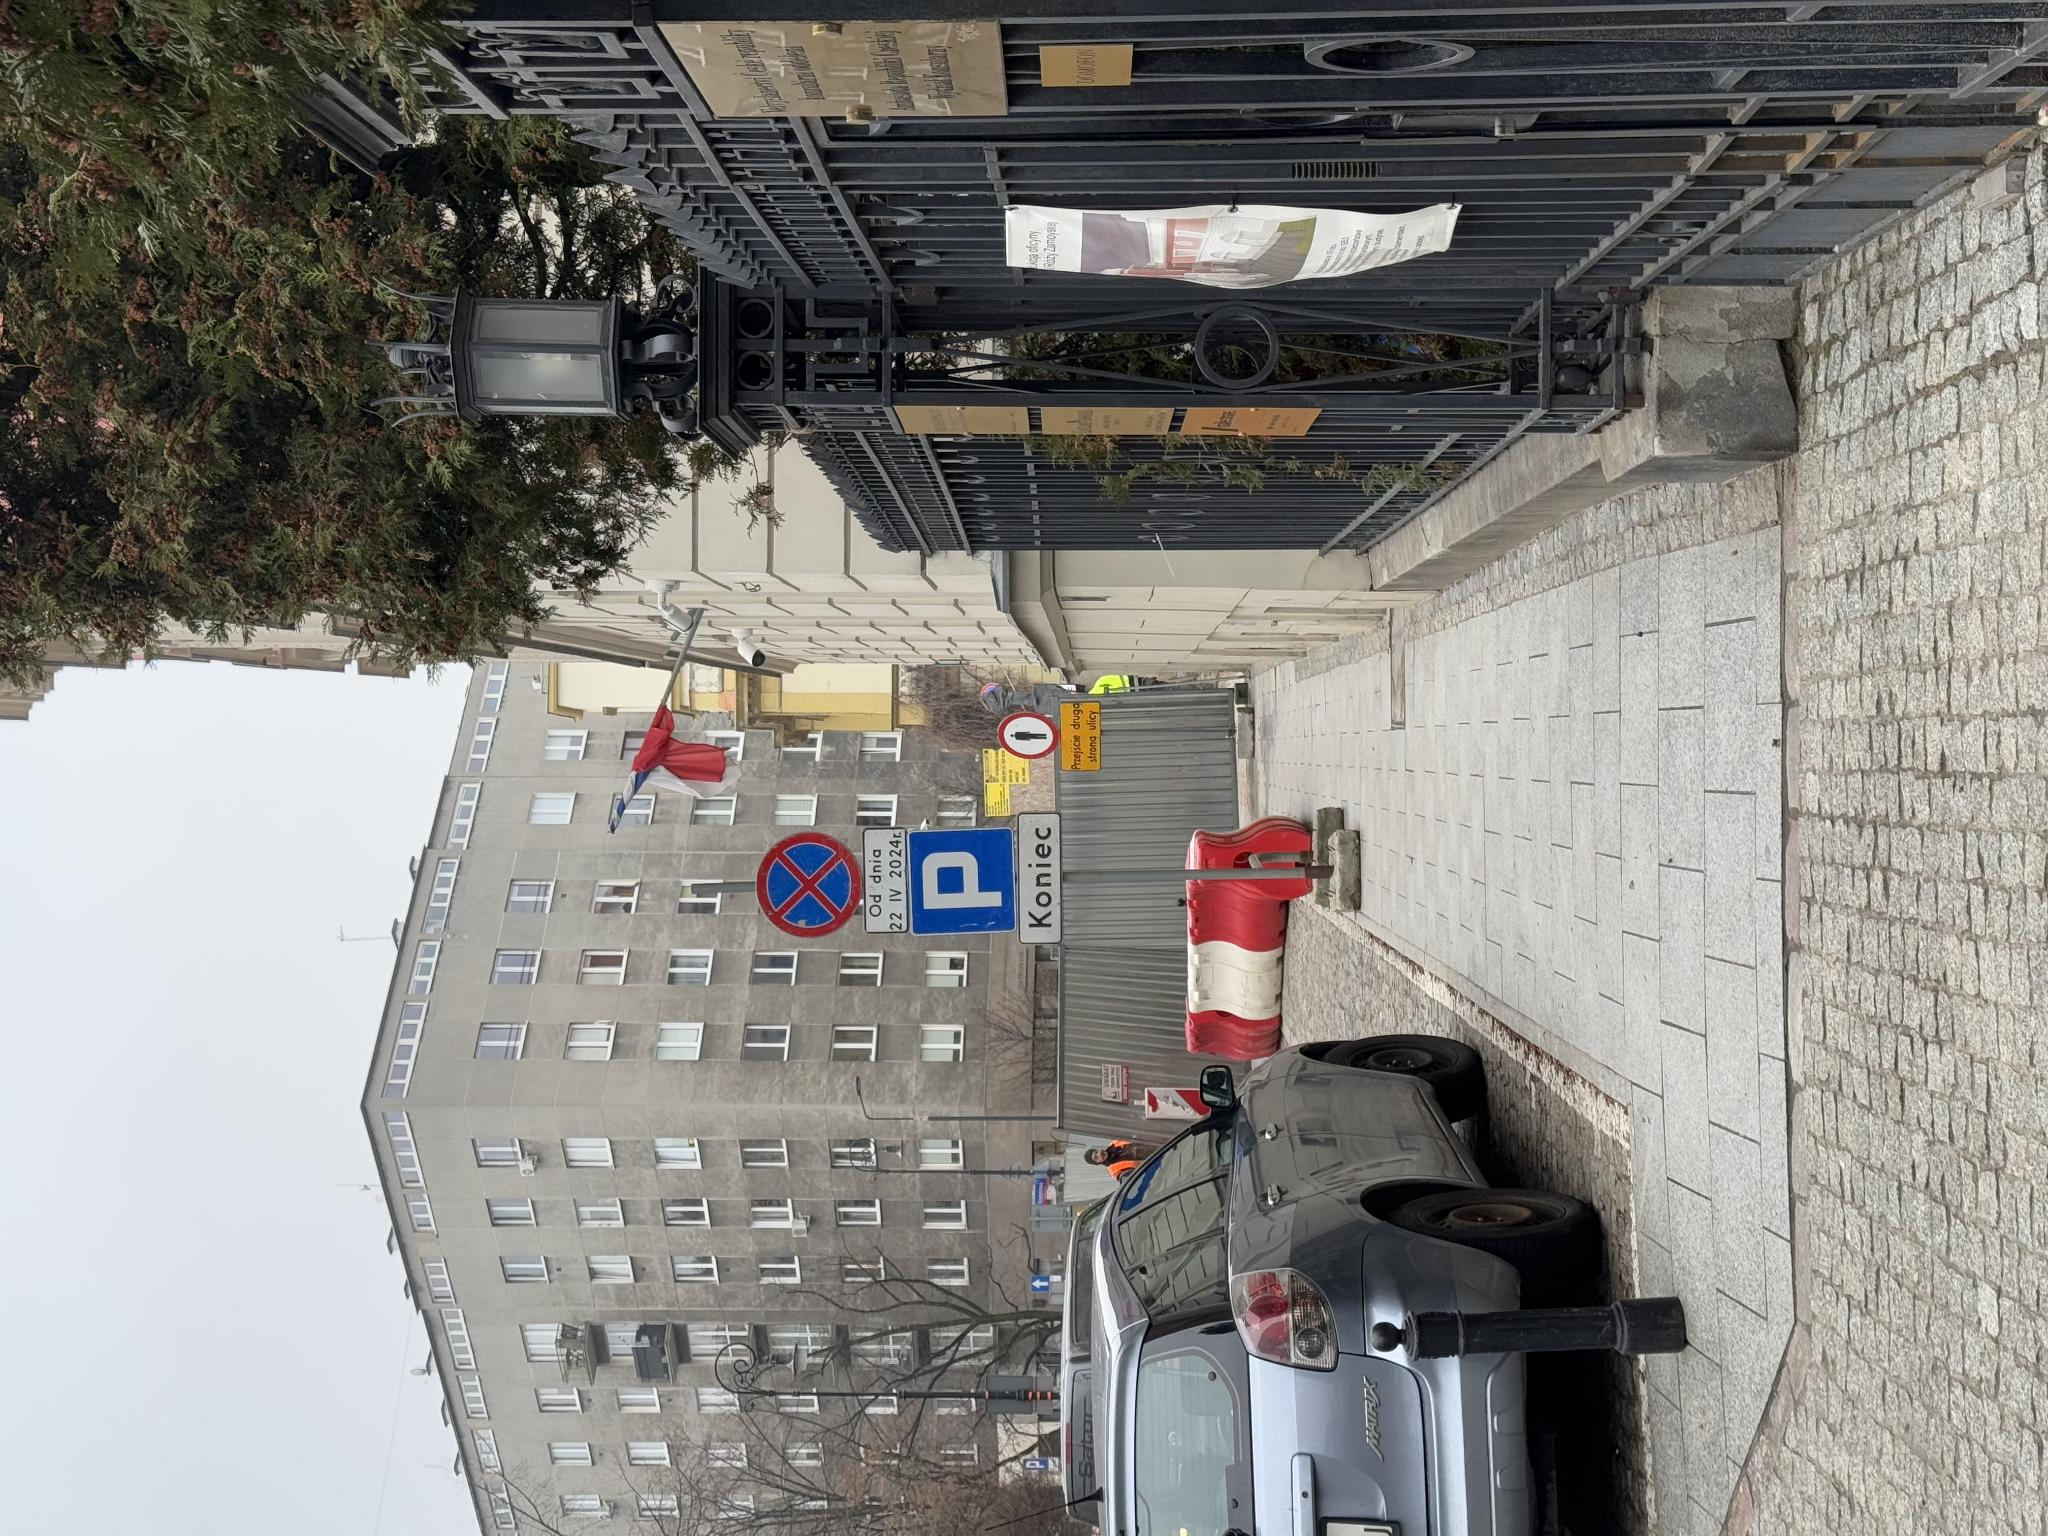information: (598, 908, 710, 1016), (244, 1029, 261, 1050)
other: (593, 1018, 727, 1065), (603, 863, 710, 908)
prohibitory: (776, 995, 826, 1060)
